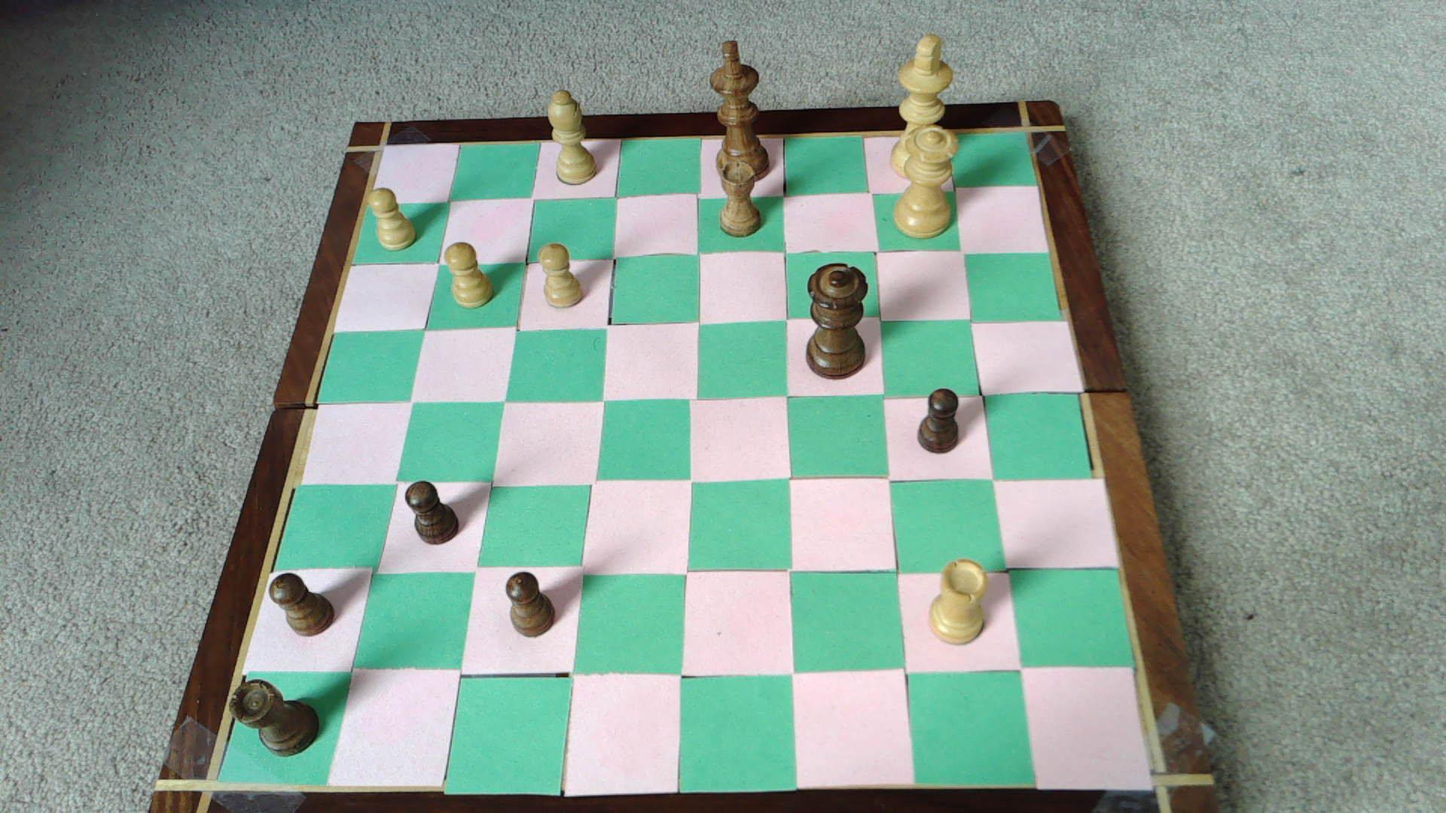dark_piece: (710, 40, 770, 183), (808, 264, 868, 378), (232, 680, 318, 754), (270, 572, 335, 635), (406, 481, 458, 543), (505, 571, 554, 636), (717, 162, 760, 236), (919, 389, 961, 452)
white_piece: (891, 35, 954, 178), (893, 128, 959, 237), (548, 90, 599, 185), (930, 559, 985, 643), (445, 242, 494, 307), (539, 243, 584, 308), (369, 188, 416, 250)
